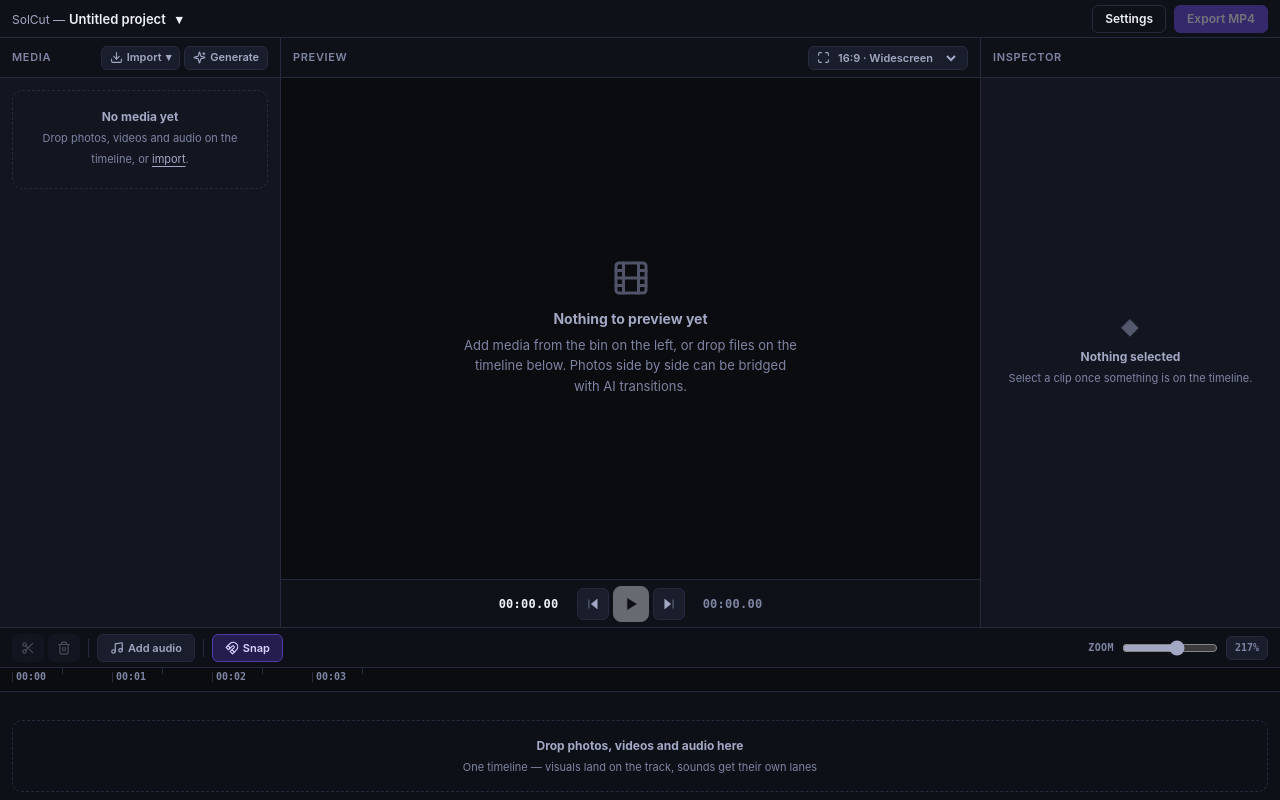
Scenario: the import source menu › offers the machine’s libraries, and opens the panel inside the one that is picked
This screenshot has width=1280, height=800.
Click the button with aria-label "Import media" at (140, 58), box [101, 46, 180, 70]
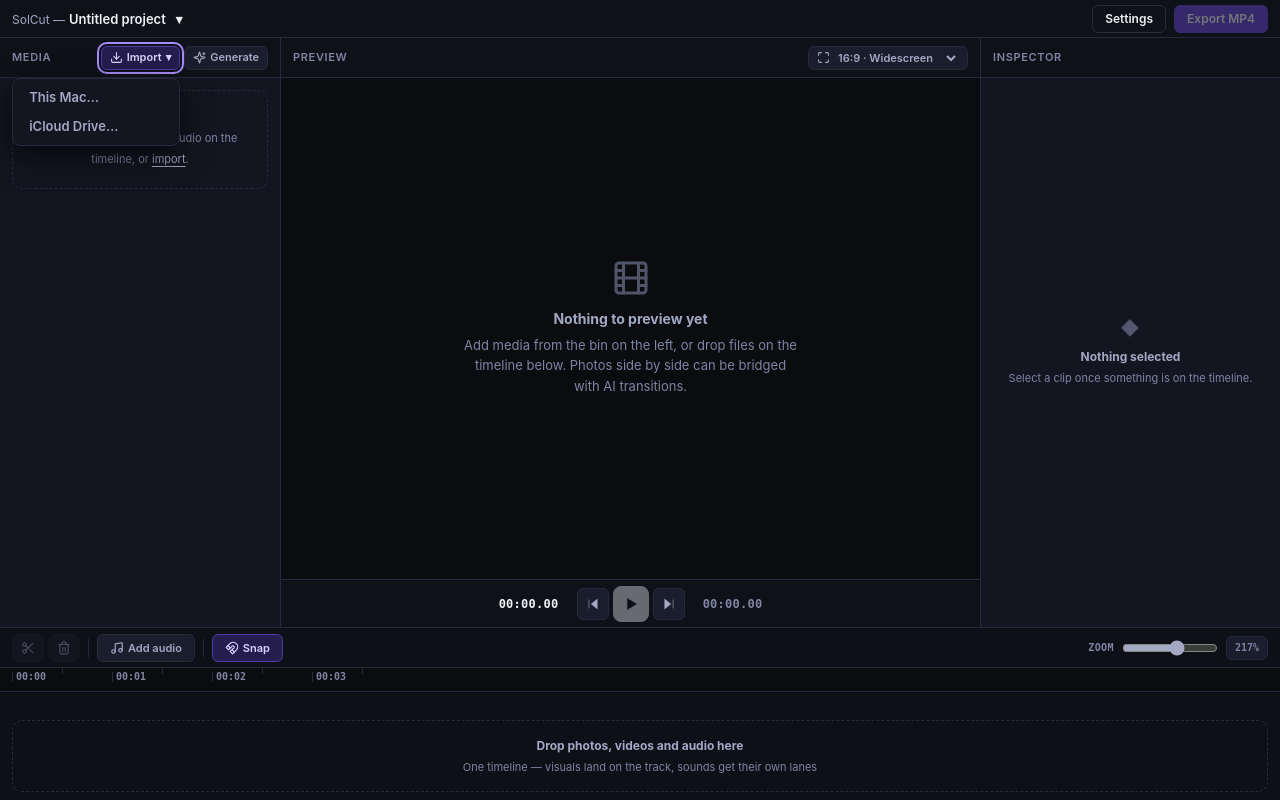
Now the button with aria-label "Import media" is expanded, box [101, 46, 180, 70]
Click the button "iCloud Drive…" at (96, 126), box [17, 112, 175, 140]
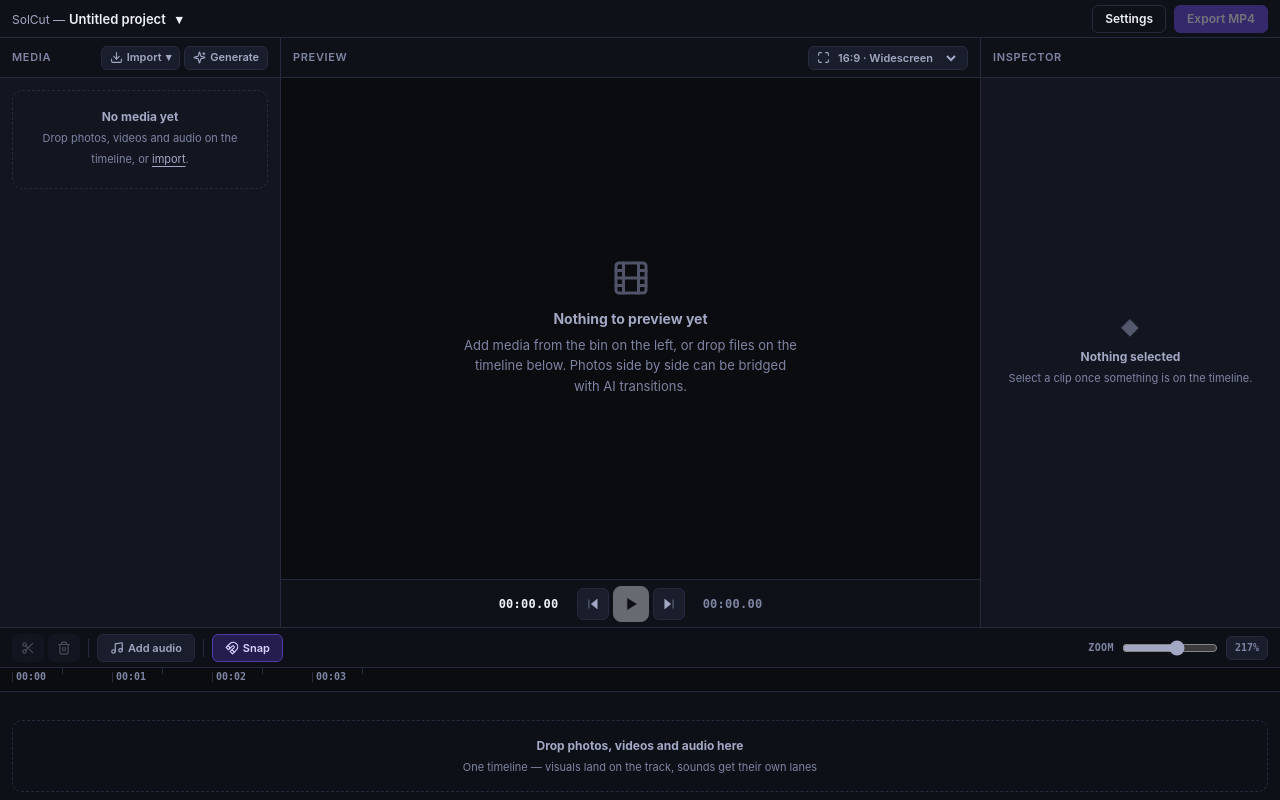
Now the button with aria-label "Import media" is collapsed, box [101, 46, 180, 70]
